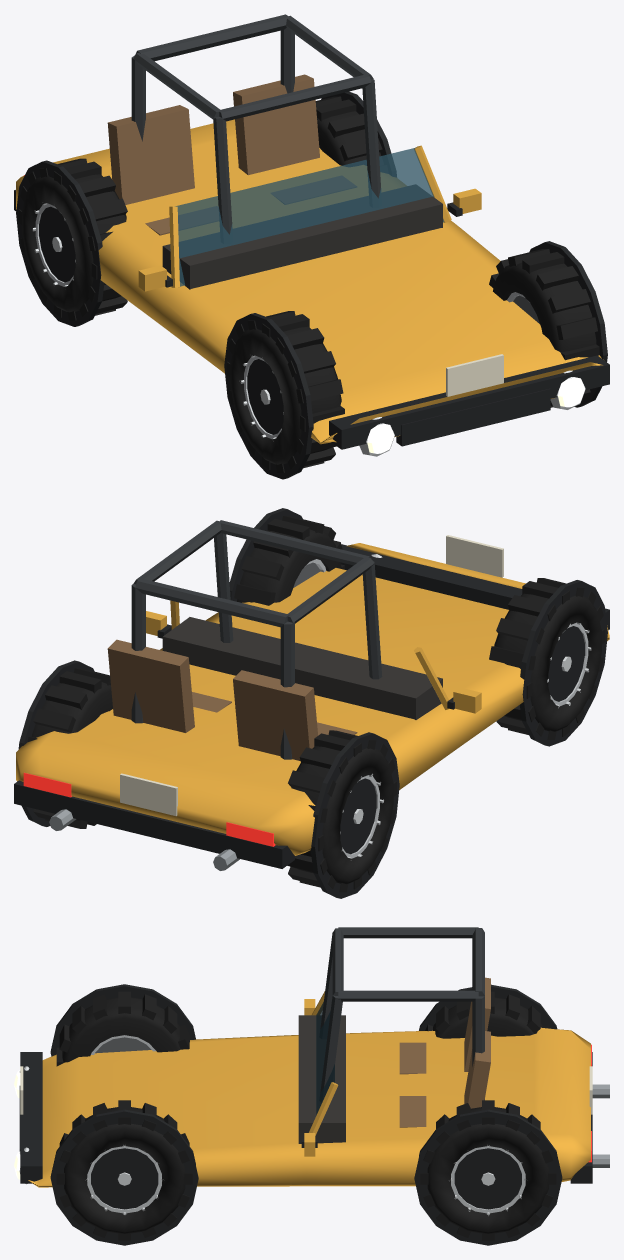
The model's file is dune-runner.glb.
The picture shows the model from 3 angles, top to bottom: view 1: azimuth 30°, elevation 25°; view 2: azimuth 150°, elevation 25°; view 3: azimuth 270°, elevation 25°; orthographic projection. The views are drawn at different scales.
Visible parts, largest first — view 1: body, wheel_FR, wheel_RR, wheel_FL, wheel_RL, plate_F, headlight_R, headlight_L; view 2: body, wheel_FR, wheel_RR, wheel_FL, wheel_RL, plate_R, plate_F, taillight_L, taillight_R; view 3: body, wheel_FL, wheel_RL, wheel_FR, wheel_RR.
Boxes of the visible parts, x1,y1,x2,y2 form: body: [14, 14, 609, 479]; wheel_FR: [227, 311, 344, 472]; wheel_RR: [18, 158, 127, 320]; wheel_FL: [489, 249, 599, 407]; wheel_RL: [315, 96, 388, 173]; plate_F: [446, 354, 503, 396]; headlight_R: [359, 417, 394, 456]; headlight_L: [550, 370, 585, 409]; body: [14, 508, 609, 898]; wheel_FR: [489, 578, 605, 739]; wheel_RR: [287, 730, 396, 892]; wheel_FL: [234, 516, 344, 605]; wheel_RL: [27, 668, 112, 828]; plate_R: [120, 773, 177, 816]; plate_F: [446, 535, 503, 577]; taillight_L: [23, 772, 71, 797]; taillight_R: [226, 822, 275, 846]; body: [19, 927, 592, 1245]; wheel_FL: [56, 1100, 192, 1240]; wheel_RL: [420, 1100, 556, 1240]; wheel_FR: [56, 991, 189, 1066]; wheel_RR: [425, 991, 550, 1038].
Size of the model in its own units: 2.15 by 1.55 by 3.77.
